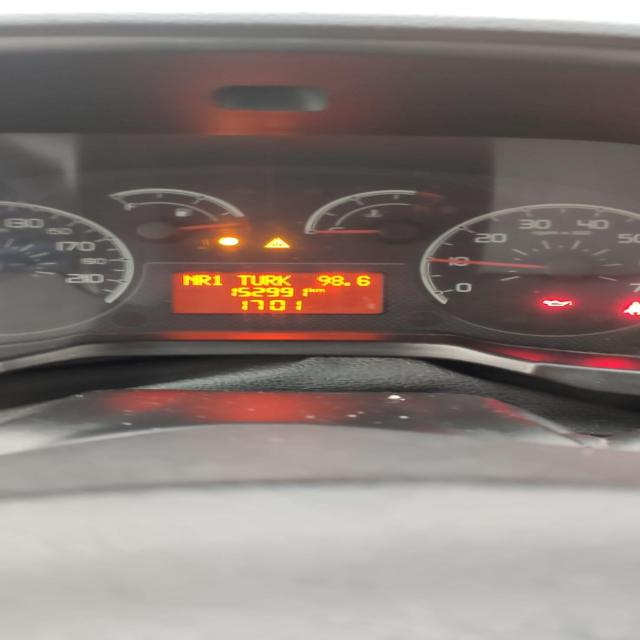odometer: (170, 270, 386, 314)
